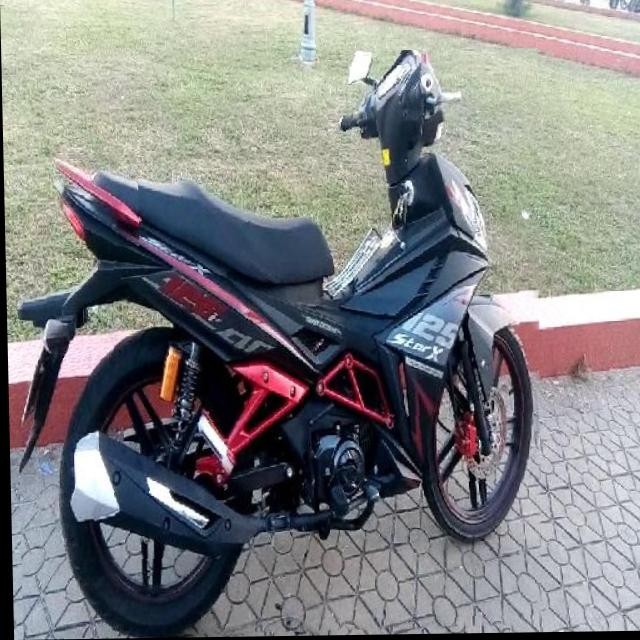All: (10, 50, 547, 640)
Head: (326, 55, 467, 153)
Tail: (41, 154, 139, 248)
